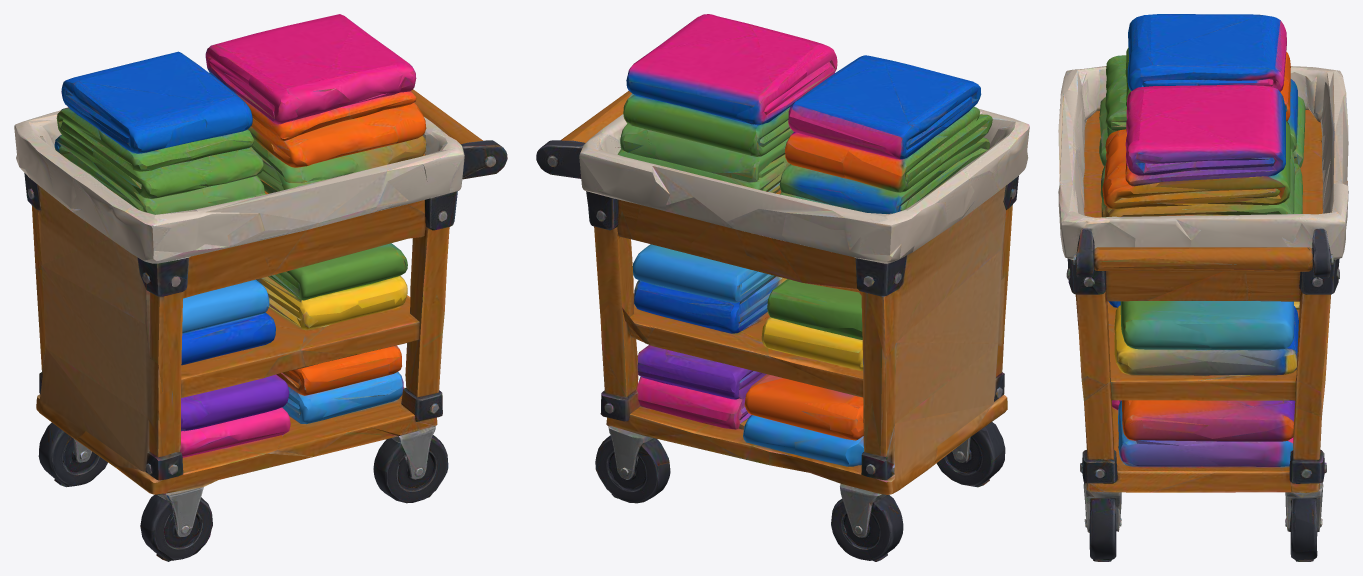
File: p_laundry.glb
3 views of the same model, side by side, from view 1: azimuth 30°, elevation 25°; view 2: azimuth 150°, elevation 25°; view 3: azimuth 270°, elevation 25° (orthographic).
Bounding box in the file's own units: 1.75 × 1.9 × 1.19.
Materials: 1 (1 with a texture image).
